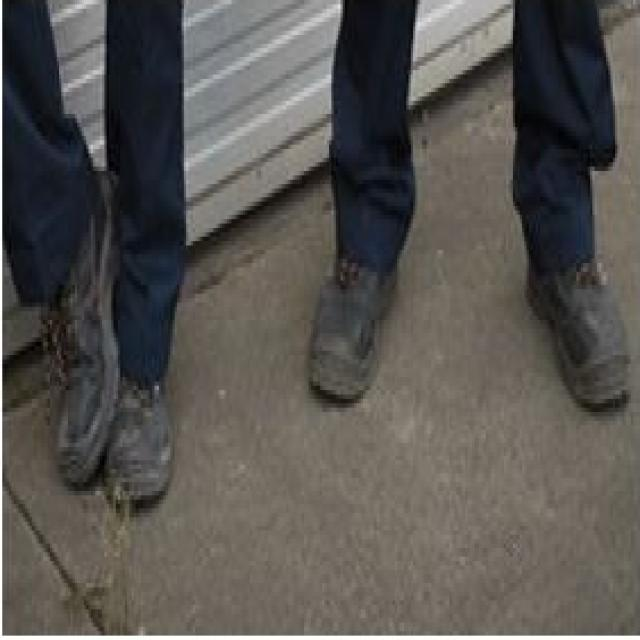shoes: (306, 139, 633, 418), (24, 133, 193, 513)
